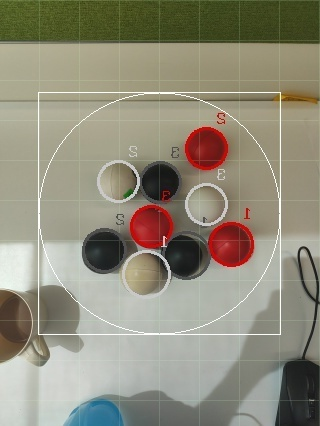Pelota blanca: (0, 286, 33, 365), (119, 249, 172, 296), (183, 182, 230, 227), (95, 158, 140, 203), (23, 334, 52, 368), (226, 411, 265, 425)
Pelota negra: (276, 358, 320, 425), (162, 230, 212, 280), (82, 225, 127, 275), (141, 158, 183, 203), (61, 398, 124, 425)
Pelota roja: (207, 220, 257, 267), (183, 124, 230, 171), (130, 204, 175, 248)
